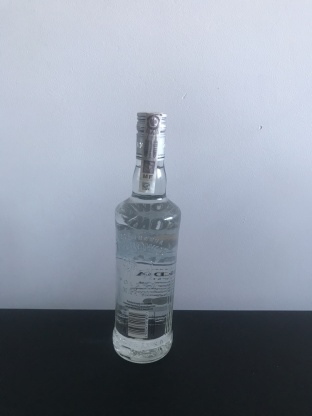nakretka: (133, 108, 169, 162)
